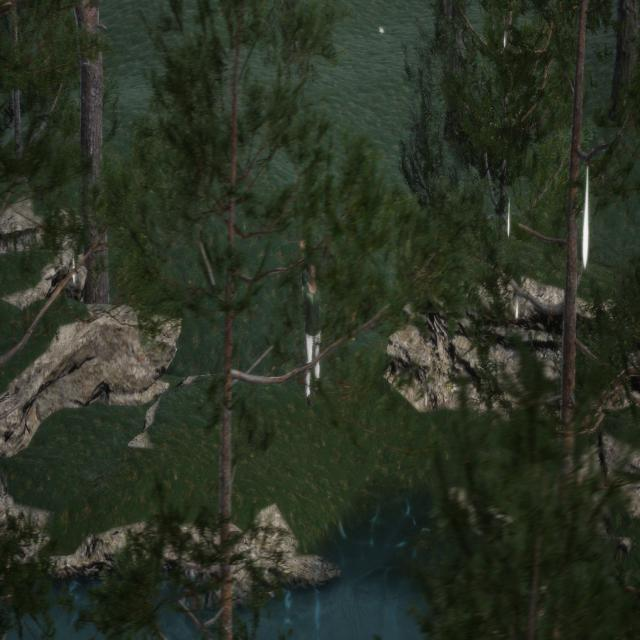Human: (294, 250, 324, 410)
